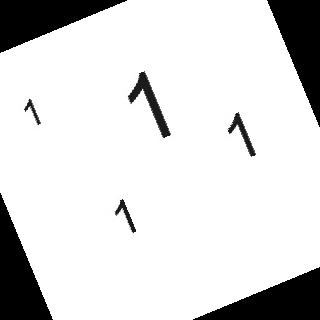one: (114, 69, 188, 143), (219, 108, 270, 159), (107, 195, 146, 234), (19, 96, 49, 126)
